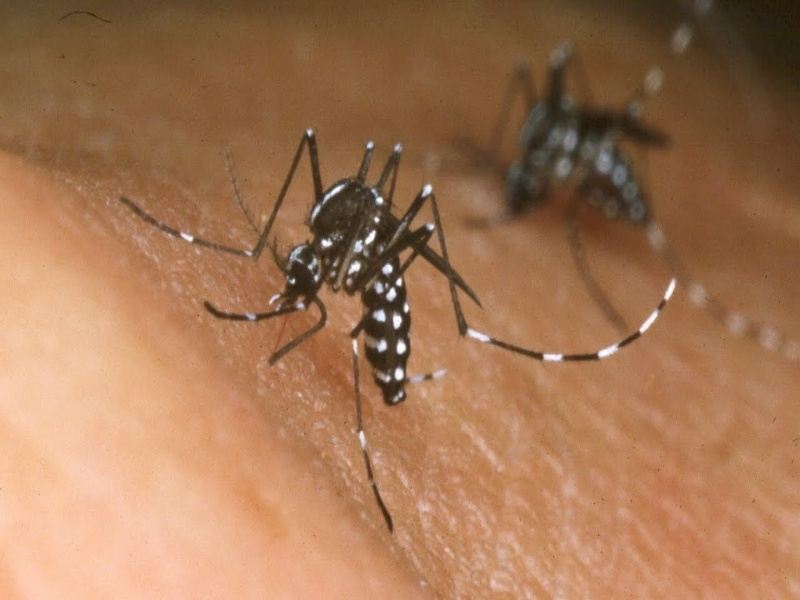dengue_mosquito: (203, 124, 484, 404)
